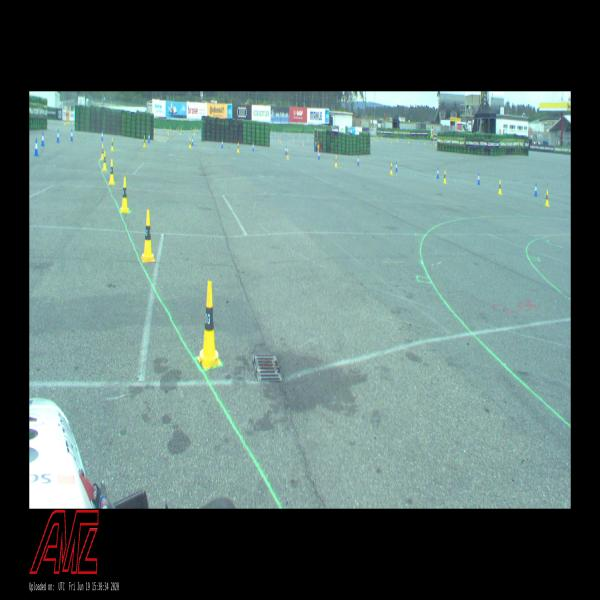blue_cone: (34, 138, 39, 156), (70, 128, 74, 141), (41, 131, 44, 146), (57, 130, 60, 142), (534, 183, 537, 195), (477, 173, 480, 184), (148, 132, 151, 143), (396, 161, 398, 172), (102, 130, 104, 140), (437, 168, 439, 178), (357, 156, 359, 166), (222, 138, 224, 148), (192, 136, 194, 146), (318, 151, 320, 159), (285, 146, 287, 154), (253, 142, 254, 151)
yellow_cone: (197, 281, 221, 369), (141, 210, 155, 262), (120, 176, 130, 212), (109, 159, 115, 185), (102, 151, 108, 171), (545, 190, 549, 206), (498, 180, 502, 194), (101, 143, 104, 160), (111, 137, 114, 151), (237, 142, 240, 153), (143, 136, 146, 147), (444, 170, 446, 183), (390, 162, 392, 175), (335, 155, 337, 167), (286, 148, 288, 160), (189, 138, 191, 148)
